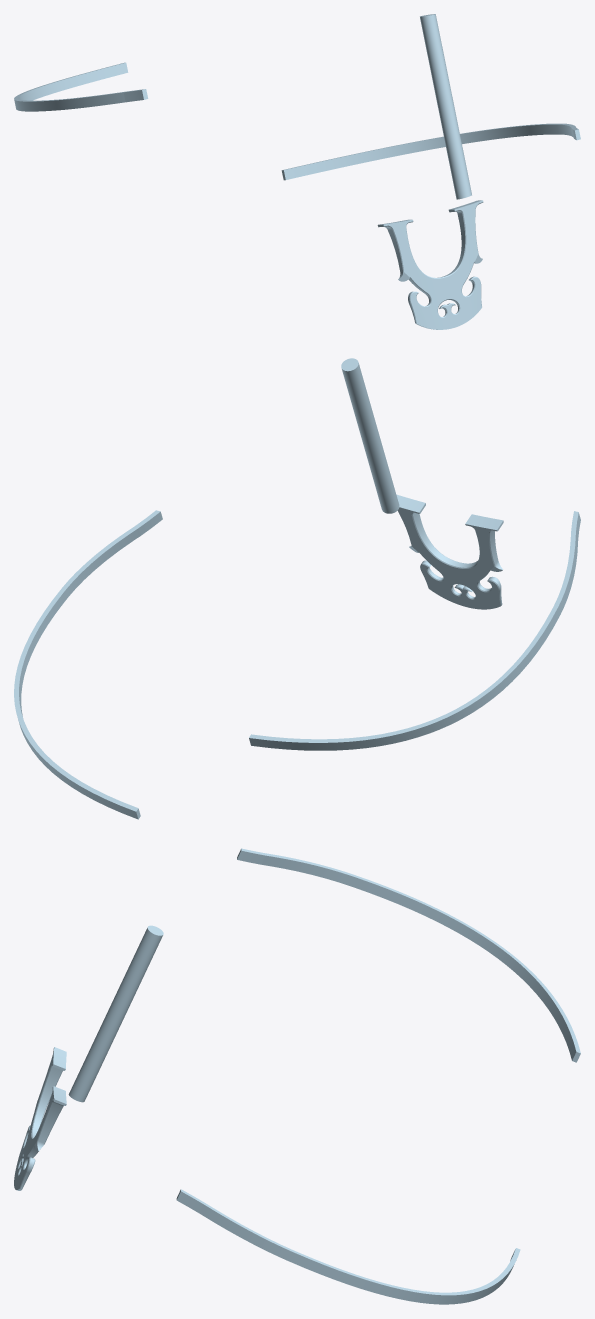
The model's file is BaseAdj_0.obj.
The picture shows the model from 3 angles, top to bottom: view 1: azimuth 30°, elevation 25°; view 2: azimuth 150°, elevation 25°; view 3: azimuth 270°, elevation 25°; orthographic projection. The views are drawn at different scales.
Bounding box in the file's own units: 0.432 × 0.2555 × 0.4117.
